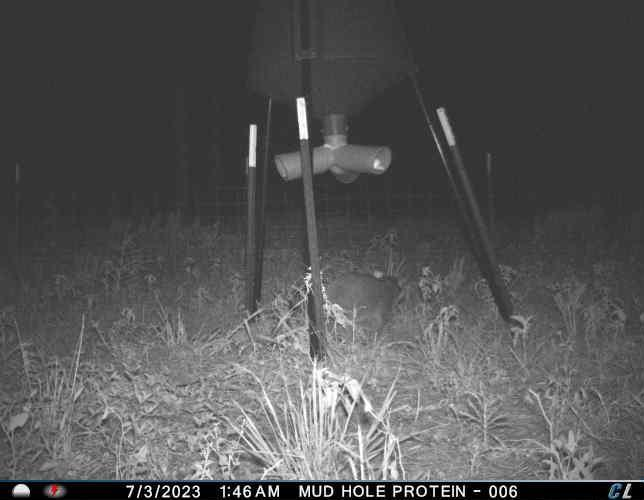Raccoon: (324, 268, 403, 337)
